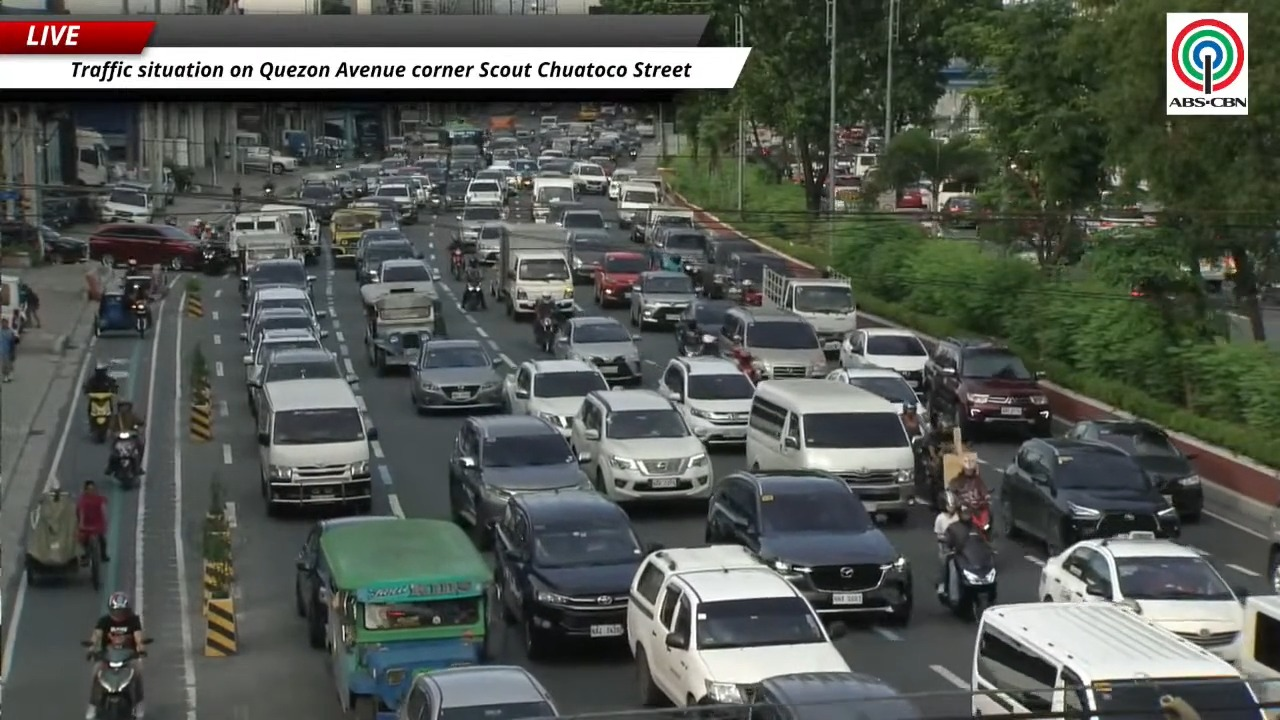car: (627, 545, 848, 706), (705, 471, 912, 624), (1038, 537, 1243, 661), (494, 490, 644, 658), (993, 438, 1180, 554), (448, 415, 589, 549), (570, 390, 713, 501), (1066, 420, 1203, 520), (294, 515, 396, 648), (923, 337, 1051, 437), (394, 665, 558, 719), (660, 356, 754, 444), (717, 306, 826, 380), (753, 672, 923, 719), (504, 360, 607, 436), (248, 349, 357, 416), (410, 338, 503, 411), (553, 315, 642, 385), (840, 328, 928, 393), (89, 222, 202, 270), (242, 329, 324, 385), (827, 367, 918, 411), (630, 270, 696, 329), (724, 247, 791, 305), (0, 220, 87, 263), (241, 286, 327, 327), (703, 235, 758, 298), (675, 298, 735, 352), (240, 307, 328, 343), (594, 251, 646, 308), (240, 258, 315, 297), (649, 226, 707, 276), (355, 239, 418, 284), (566, 228, 615, 284), (632, 206, 694, 244), (454, 203, 504, 247), (372, 182, 418, 222), (296, 183, 343, 222), (348, 195, 400, 228), (355, 228, 410, 257), (371, 258, 433, 282), (939, 195, 979, 228), (475, 222, 505, 264), (465, 174, 506, 204), (570, 162, 608, 194), (555, 208, 608, 229), (546, 200, 588, 226), (607, 168, 636, 200), (895, 187, 928, 209)
motorcycle: (939, 536, 997, 621), (89, 646, 146, 719), (946, 490, 992, 541), (112, 431, 140, 489), (87, 392, 114, 443), (681, 334, 718, 356), (535, 316, 555, 353), (461, 279, 484, 310), (132, 300, 149, 336), (450, 248, 464, 280), (262, 185, 274, 198), (628, 148, 637, 160)
truck: (761, 267, 856, 353), (492, 223, 574, 318), (364, 288, 438, 375), (360, 271, 437, 312), (227, 211, 297, 255), (632, 206, 694, 244), (617, 180, 661, 228), (75, 127, 110, 186), (532, 177, 576, 222), (239, 146, 297, 174)
